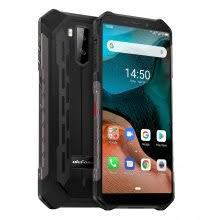Smartphone: (92, 13, 172, 208), (44, 8, 94, 204)
